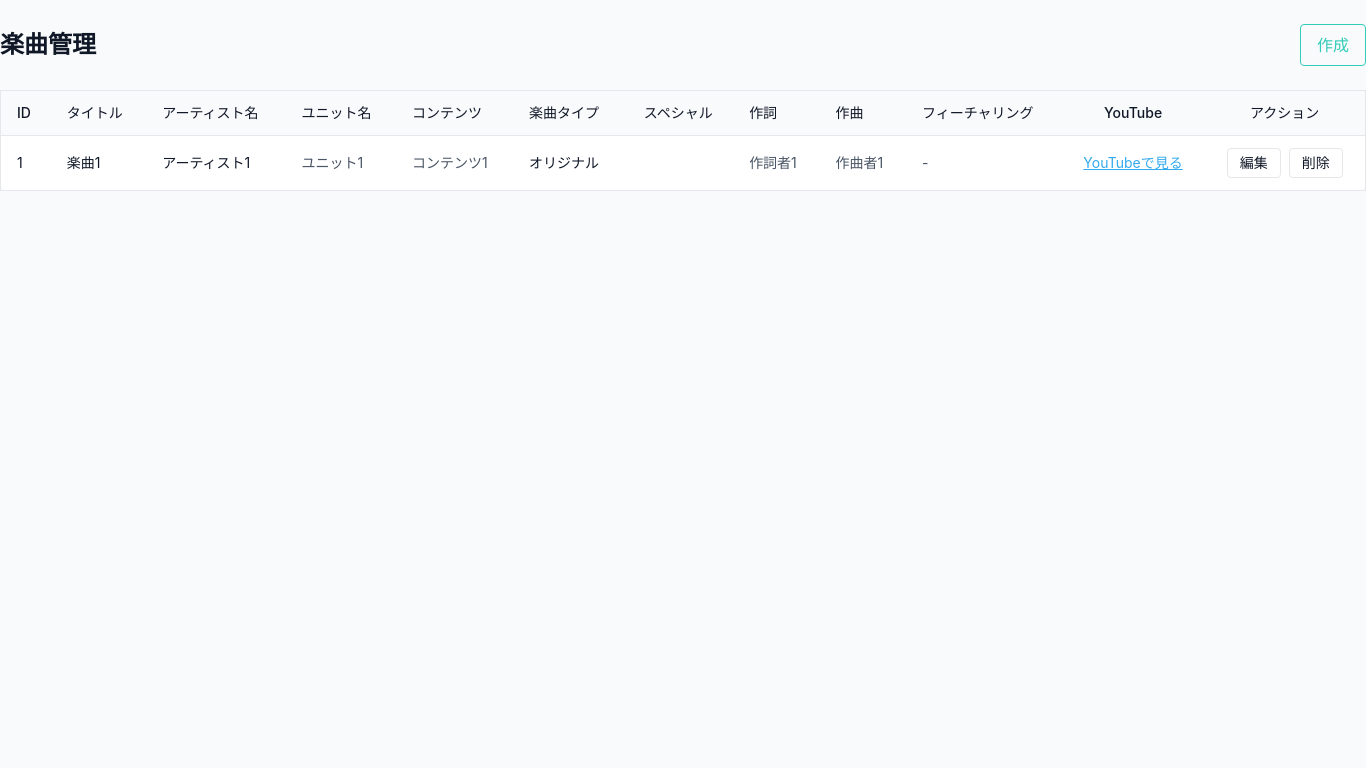
Test: MusicListPage › アーティスト追加完了後に新規追加されたアーティストが自動選択される
Note: 楽曲新規登録ボタンをクリック
Click the button with test id "create-music-button" at x=1333, y=45, box [1300,24,1365,66]
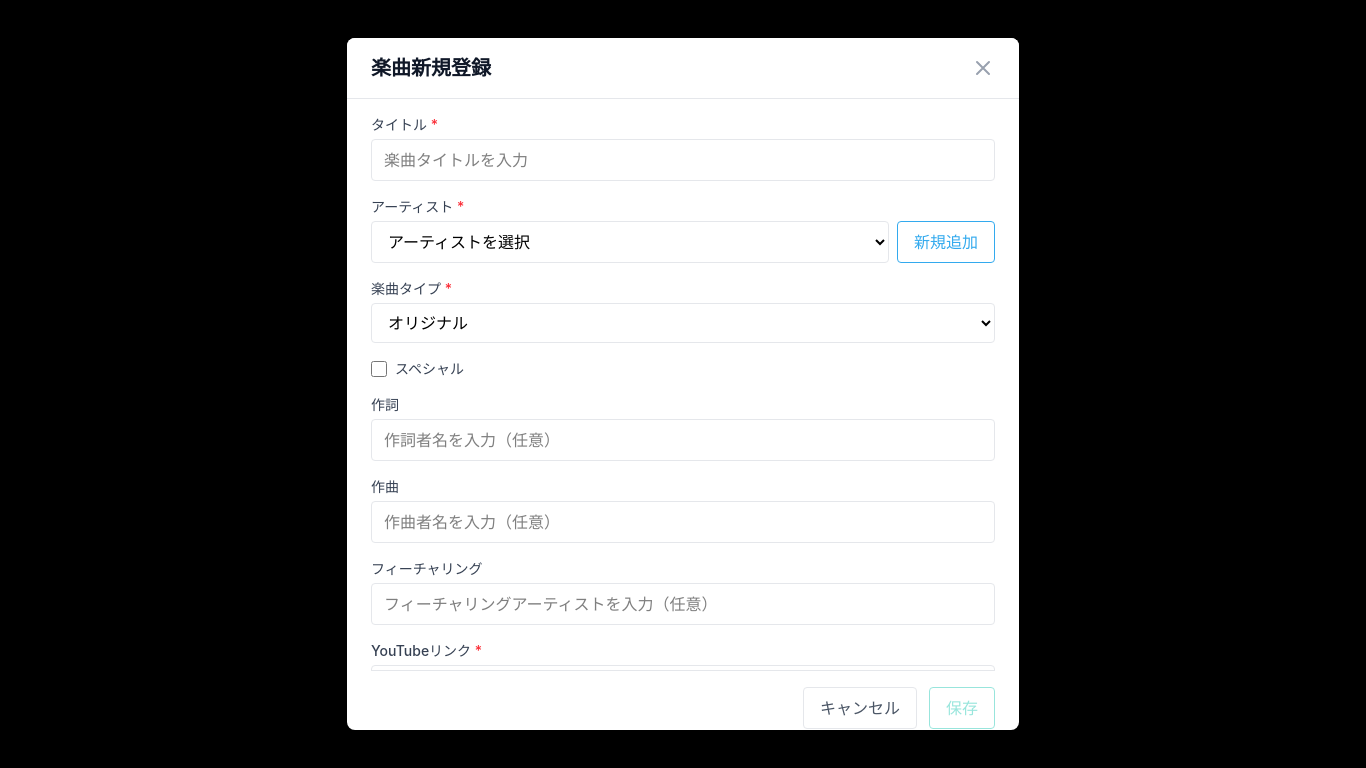
Note: アーティスト新規追加ボタンをクリック
Click the button with test id "create-artist-button" at x=946, y=242, box [897,221,995,263]
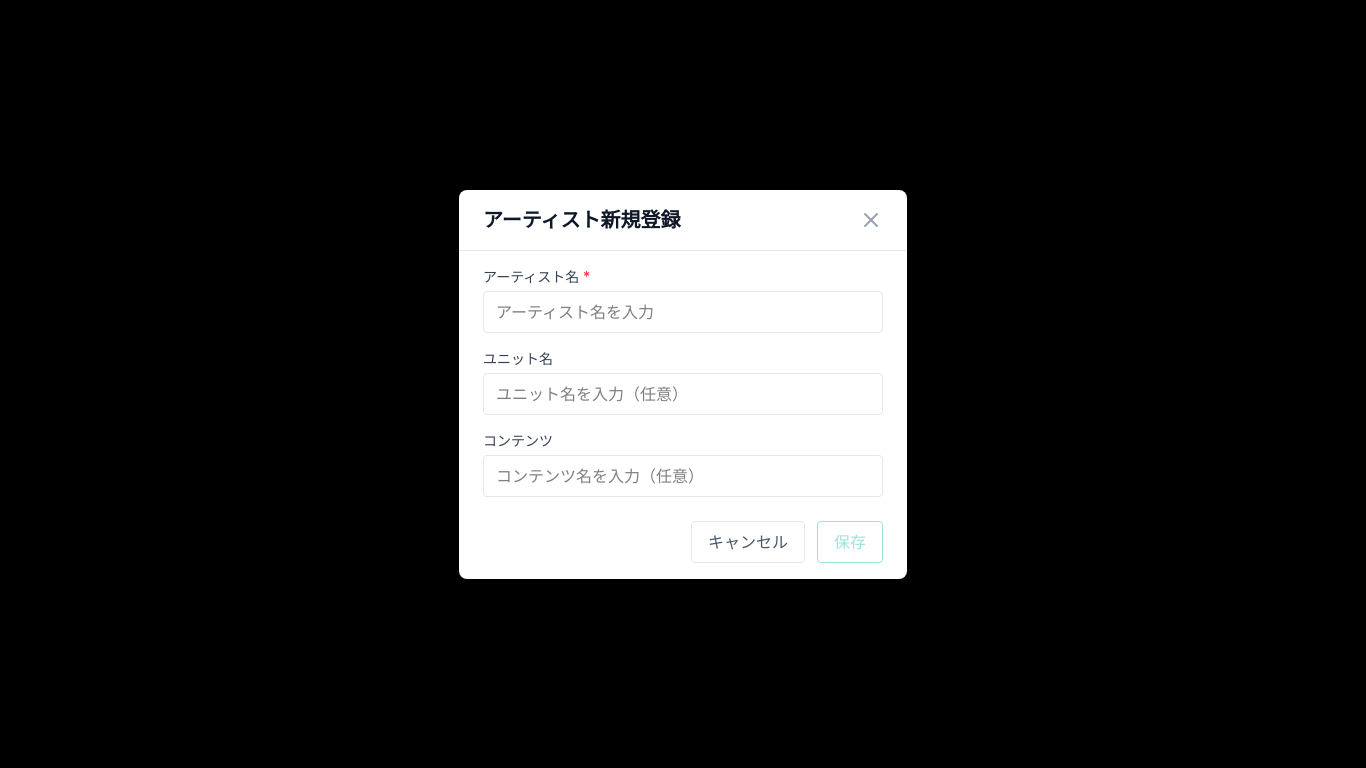
Note: アーティストフォームに値を入力
Type "新規アーティスト" into the field with test id "artistName-input" at x=683, y=312, box [483,290,883,332]
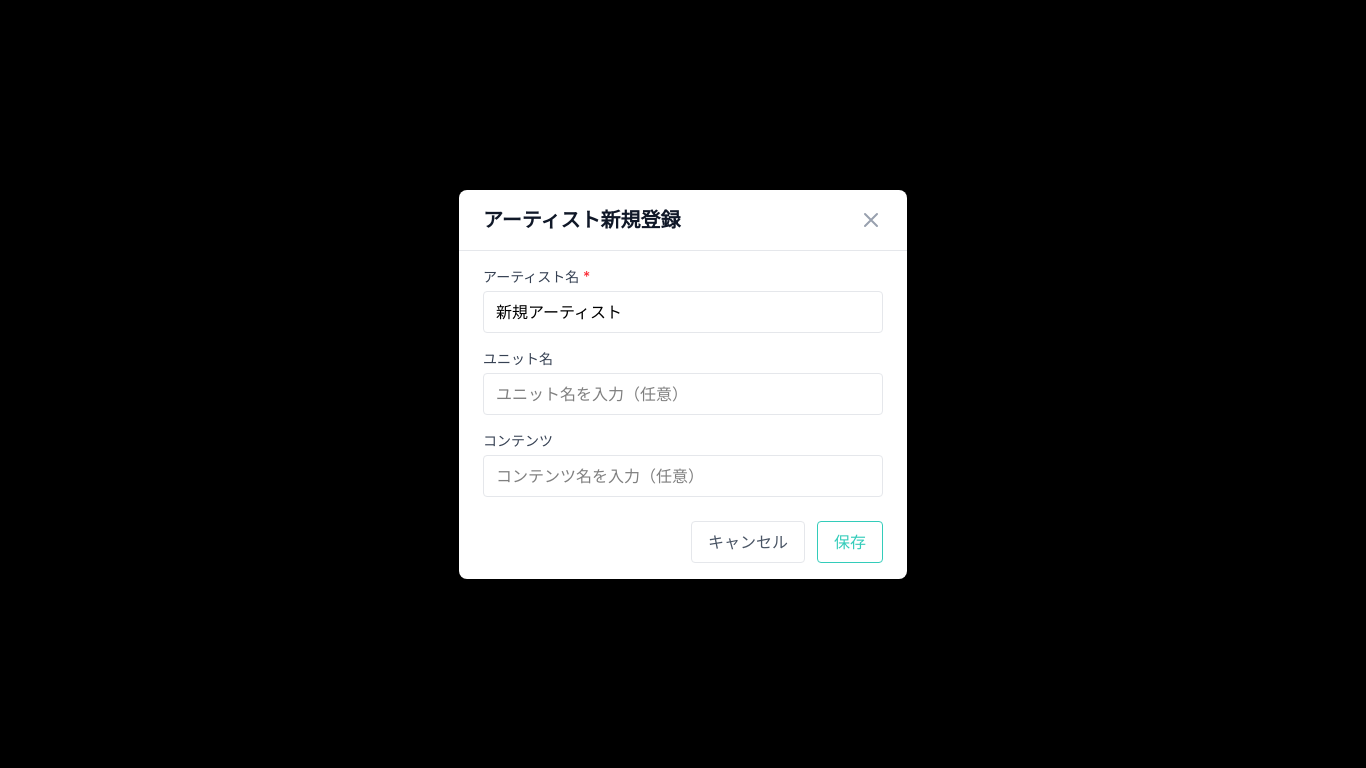
Note: アーティストフォームを送信
Submit the form with test id "artist-form", box [459,250,907,578]
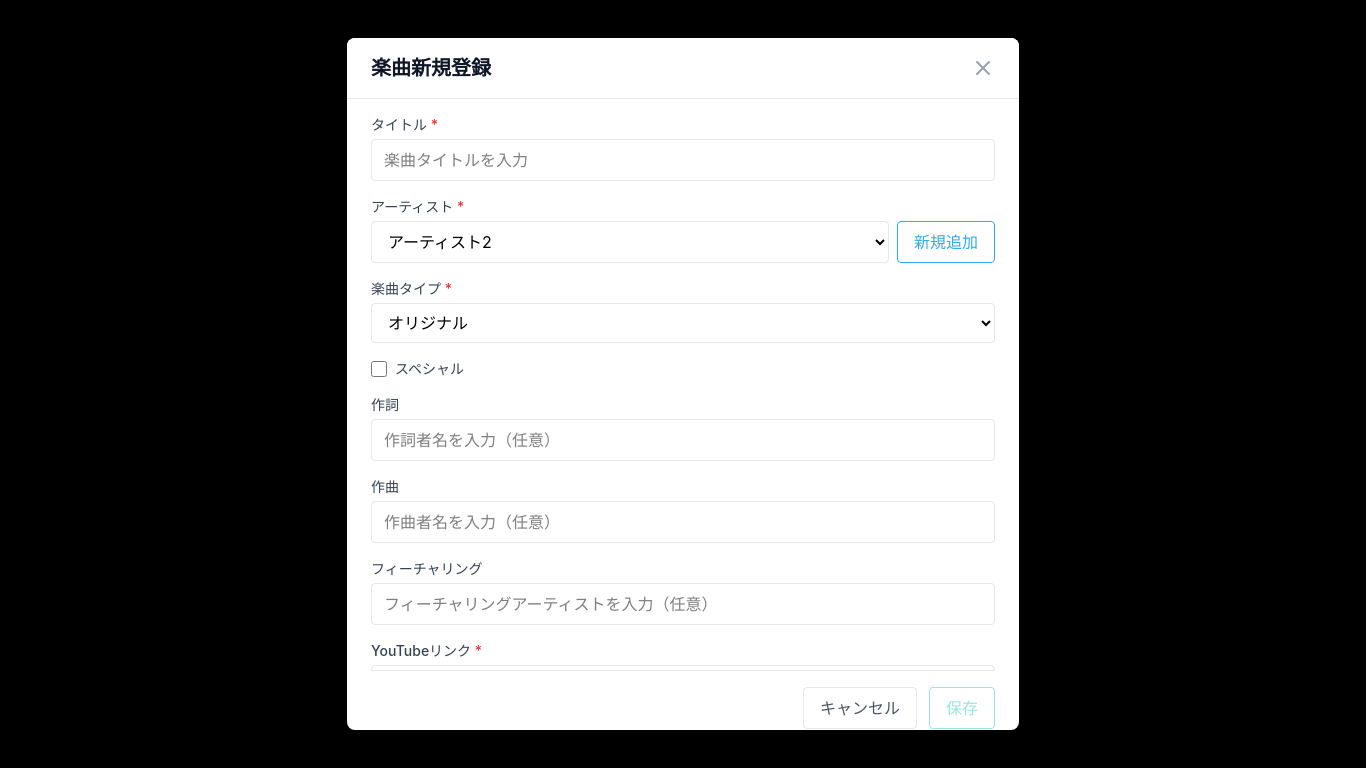
Expected: the dropdown with test id "artist-select" shows "アーティスト2", [371,221,889,263]
